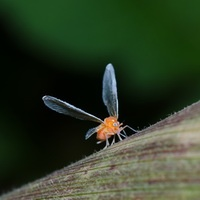insect: (42, 63, 137, 147)
